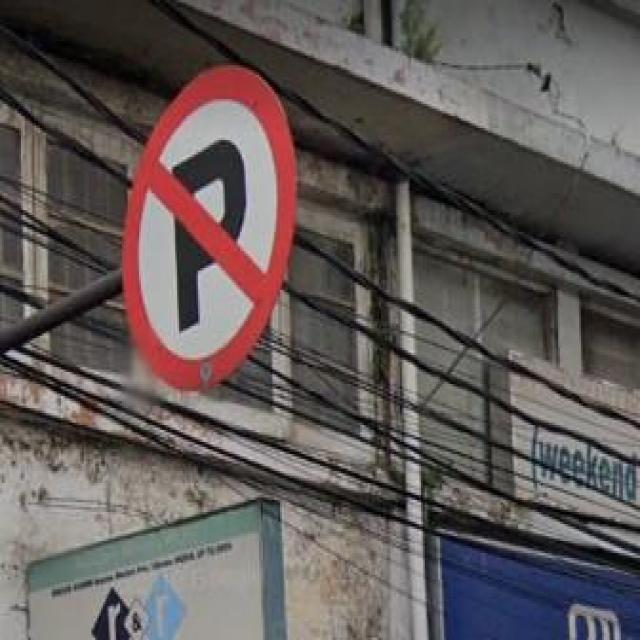traffic sign: (120, 63, 295, 387)
